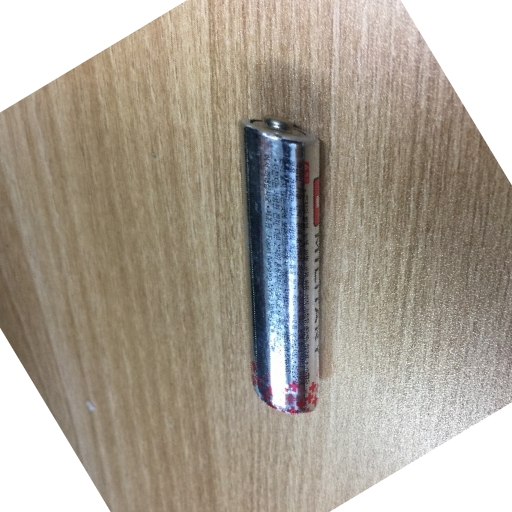Battery_0: (228, 102, 350, 425)
